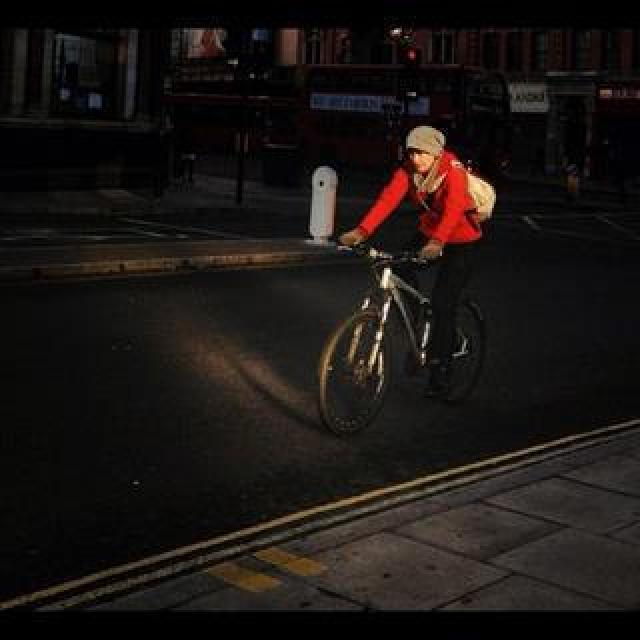MC-Bike: (334, 124, 490, 396)
Person: (316, 238, 488, 436)
